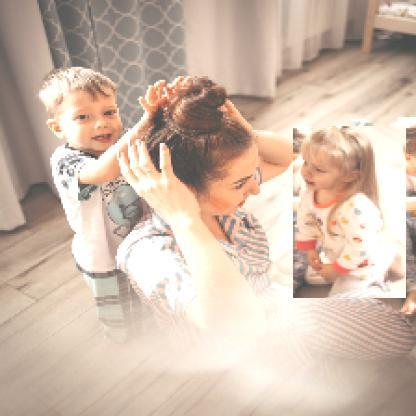child: (39, 67, 192, 338), (294, 127, 408, 300)
